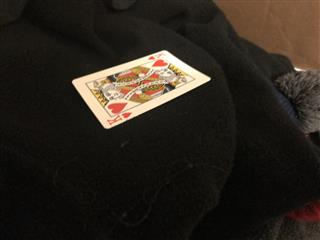KingOfHearts: (71, 49, 211, 129)
